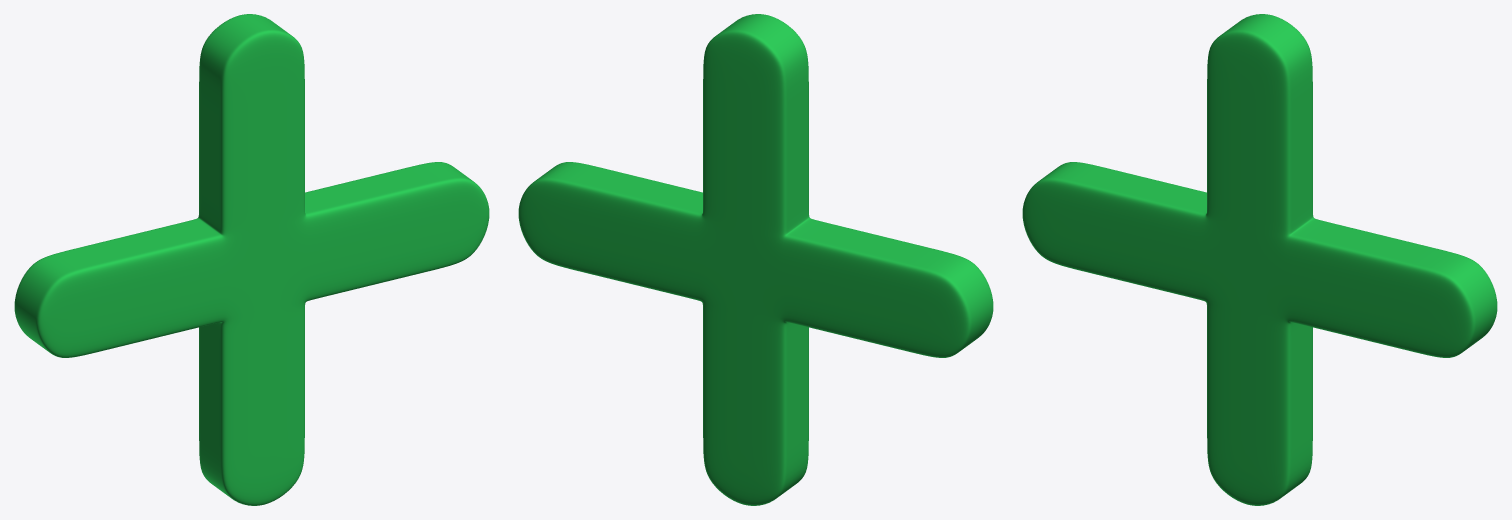
The model's file is Plus finished.fbx.
3 views of the same model, side by side, from view 1: azimuth 30°, elevation 25°; view 2: azimuth 150°, elevation 25°; view 3: azimuth 330°, elevation 25° (orthographic).
Visible parts, largest first — view 1: Plus; view 2: Plus; view 3: Plus.
Part boxes in pixels (box(x1,y1,x2,y2)): Plus: box(14, 14, 489, 505); Plus: box(518, 14, 993, 505); Plus: box(1022, 14, 1497, 505).
Size of the model in its own units: 171 by 171 by 18.19.
